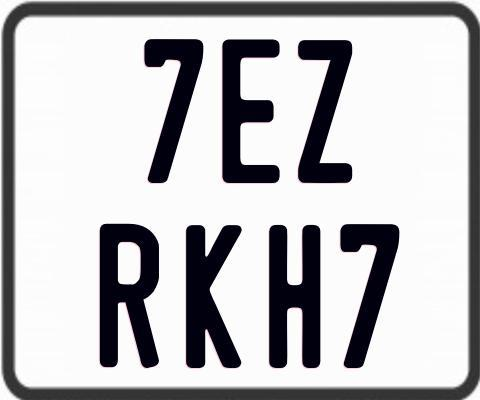7: (339, 222, 404, 372), (142, 39, 205, 189)
E: (222, 37, 286, 181)
H: (266, 223, 319, 371)
K: (186, 225, 243, 369)
R: (97, 224, 157, 369)
Z: (295, 38, 352, 183)
